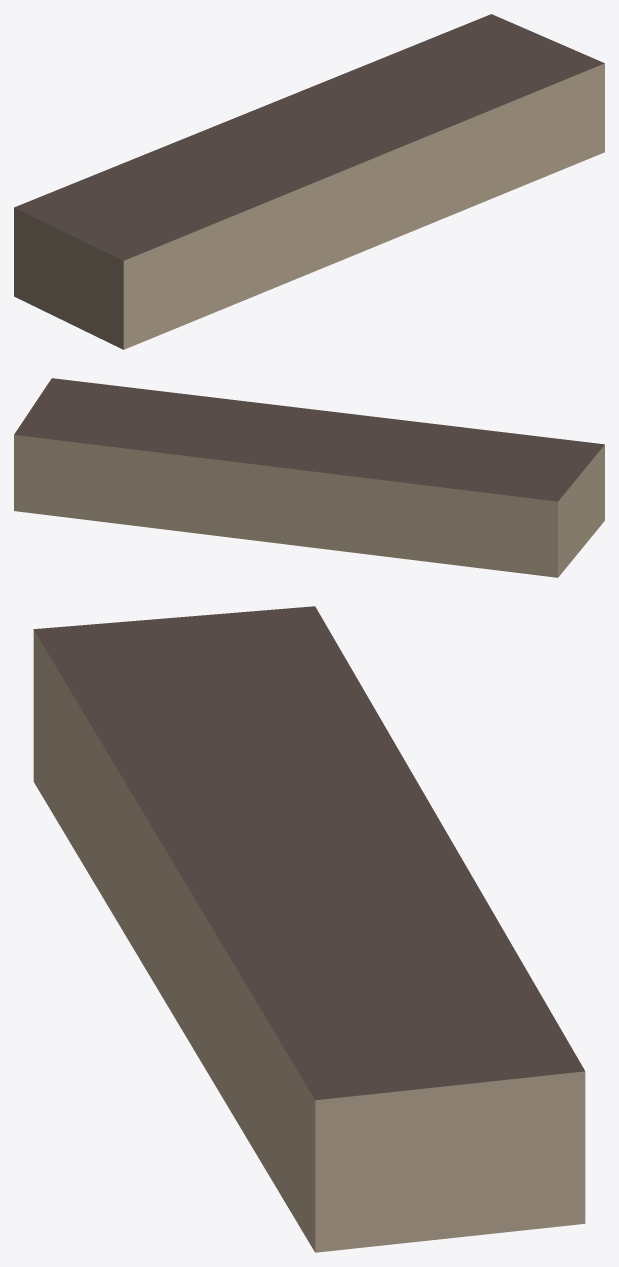
The picture shows the model from 3 angles, top to bottom: view 1: azimuth 30°, elevation 25°; view 2: azimuth 150°, elevation 25°; view 3: azimuth 270°, elevation 25°; orthographic projection. The views are drawn at different scales.
Parts seen in each view (by area): view 1: HP-w1512497747; view 2: HP-w1512497747; view 3: HP-w1512497747.
Boxes of the visible parts, x1,y1,x2,y2 form: HP-w1512497747: (14, 14, 604, 349); HP-w1512497747: (14, 378, 604, 577); HP-w1512497747: (33, 606, 585, 1252).
Bounding box in the file's own units: 62.55 × 9 × 29.53.
